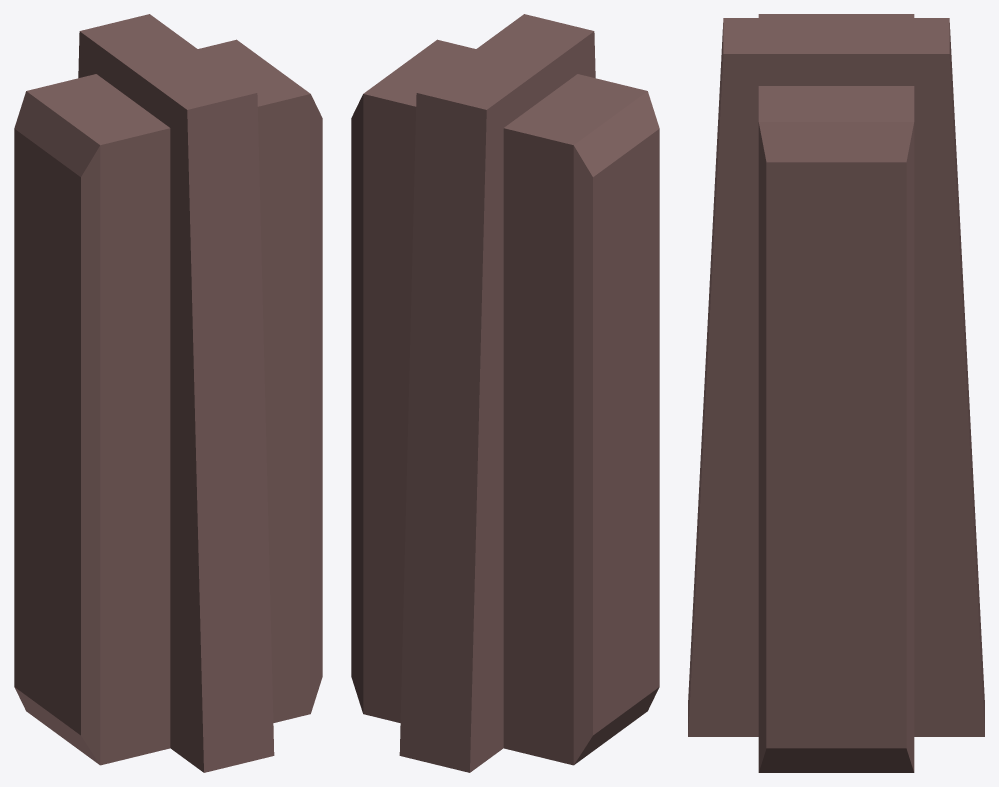
Rendered from Wall Stant UV.fbx.
3 views of the same model, side by side, from view 1: azimuth 30°, elevation 25°; view 2: azimuth 150°, elevation 25°; view 3: azimuth 270°, elevation 25° (orthographic). The views are drawn at different scales.
Parts seen in each view (by area): view 1: pCube2; view 2: pCube2; view 3: pCube2.
Part boxes in pixels (x1,y1,x2,y2): pCube2: (14, 14, 322, 772); pCube2: (351, 14, 659, 772); pCube2: (688, 14, 984, 772).
Bounding box in the file's own units: 0.4079 × 1.05 × 0.4131.
